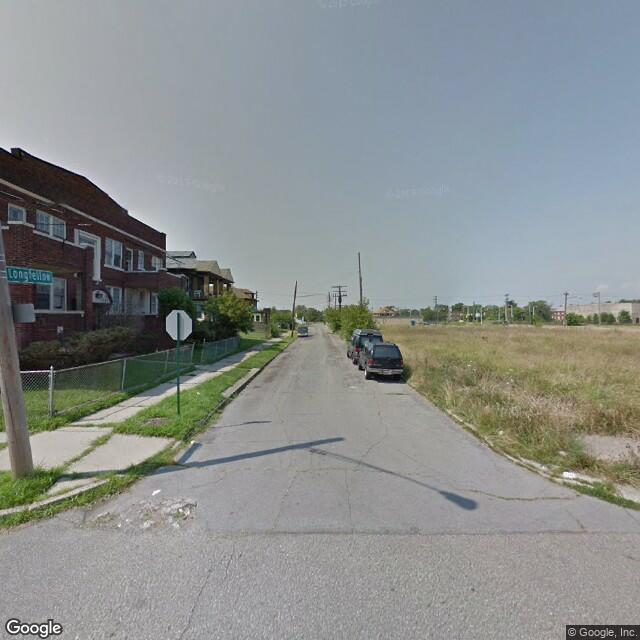litter: (151, 487, 160, 497), (188, 438, 197, 447), (194, 389, 199, 396)
